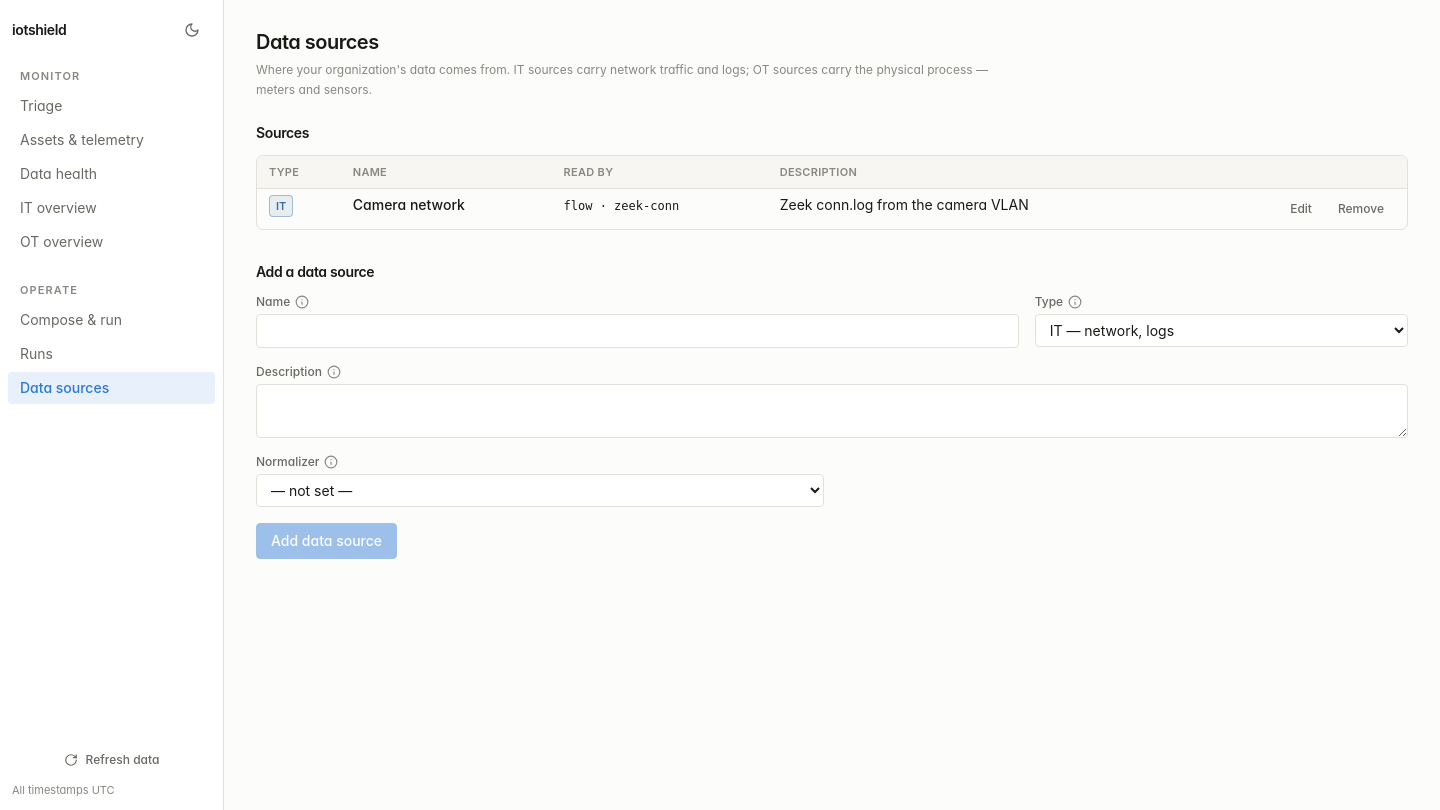
Test: Data sources page › shows the server's refusal, e.g. a duplicate name
Step 1. Type "Camera network" into the field with test id "ds_name" → coordinates (637, 331), box x1=256 y1=314 x2=1019 y2=348
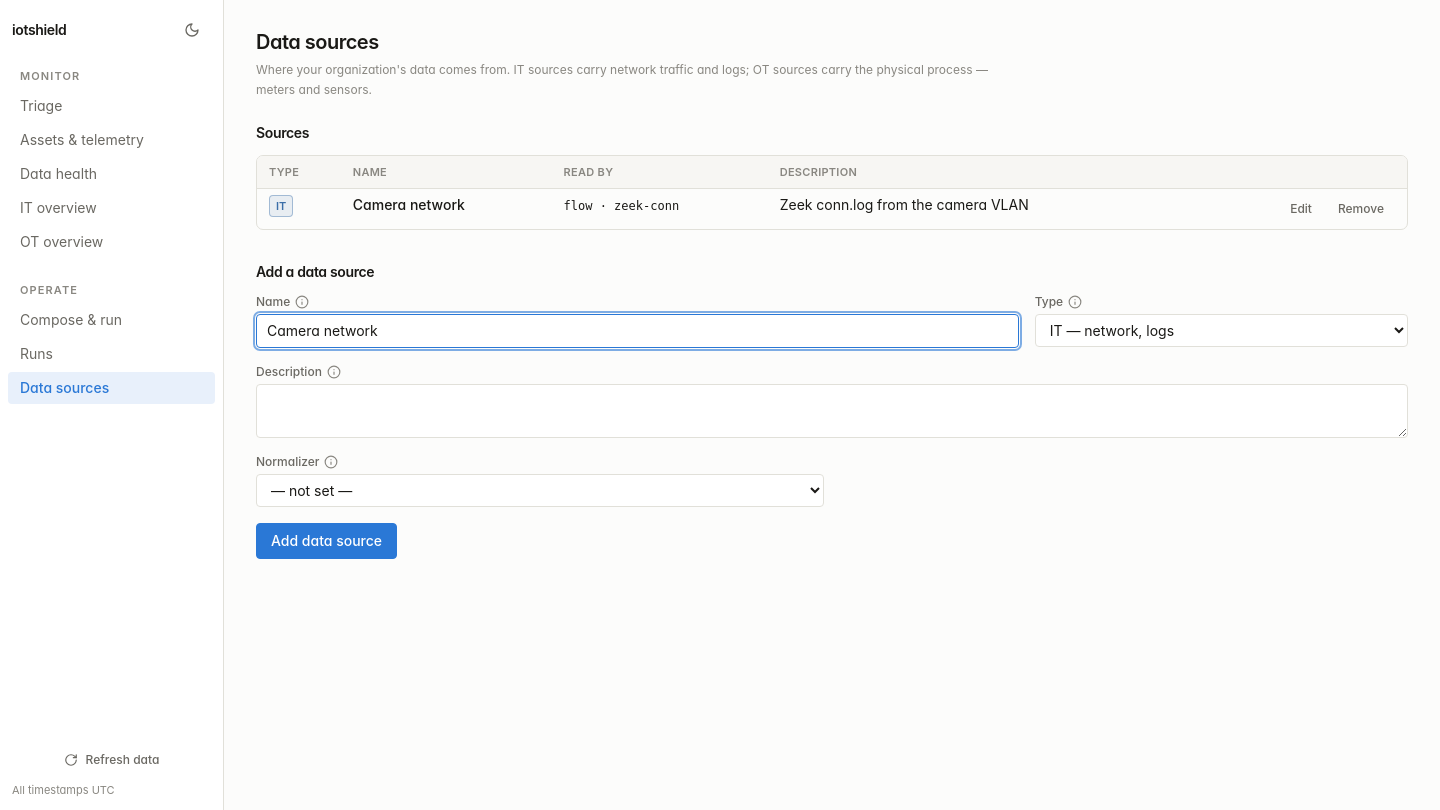
Step 2. Click the button with test id "ds_save" → coordinates (327, 541), box x1=256 y1=523 x2=397 y2=559
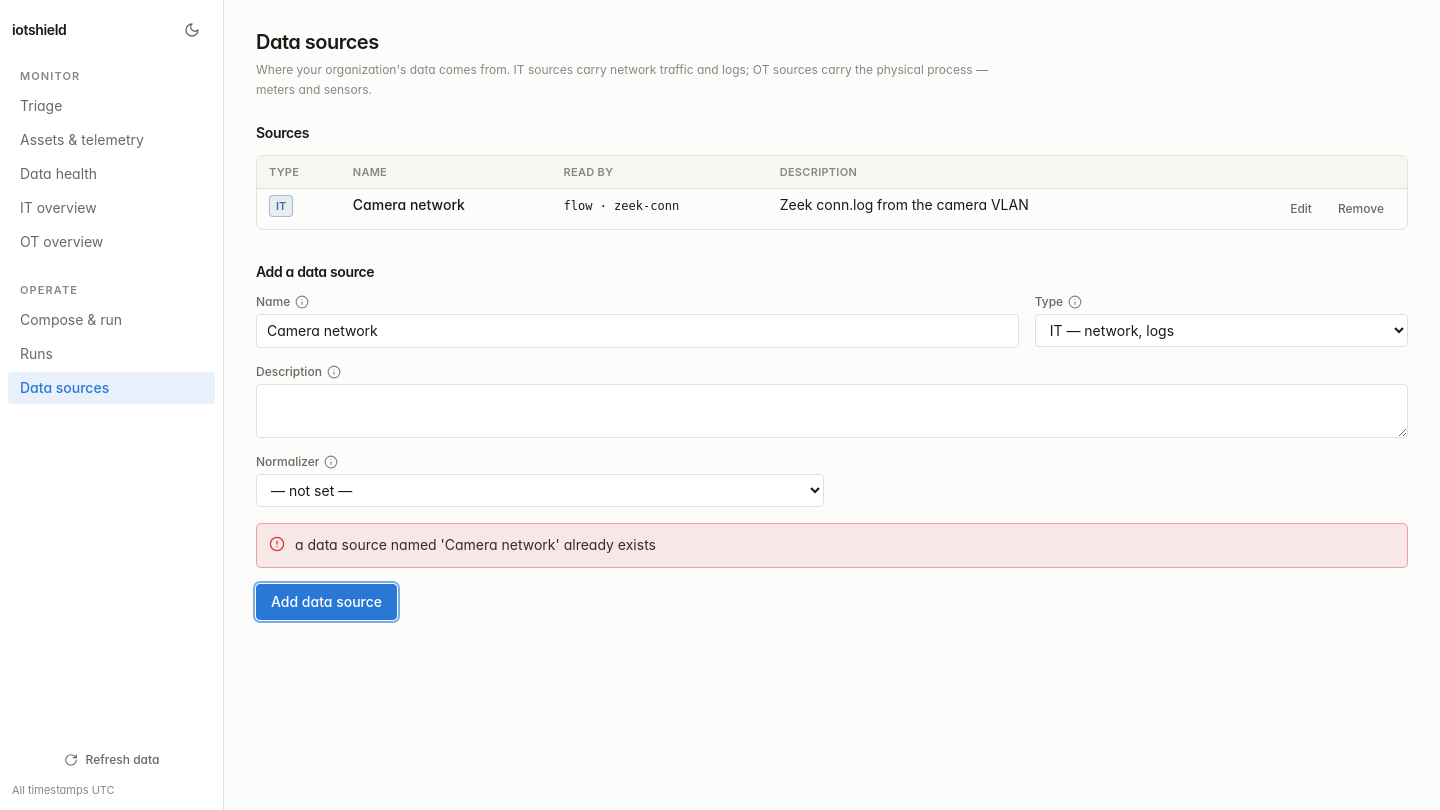
expect the text "a data source named 'Camera network' already exists" is shown: met, box x1=295 y1=534 x2=656 y2=557
